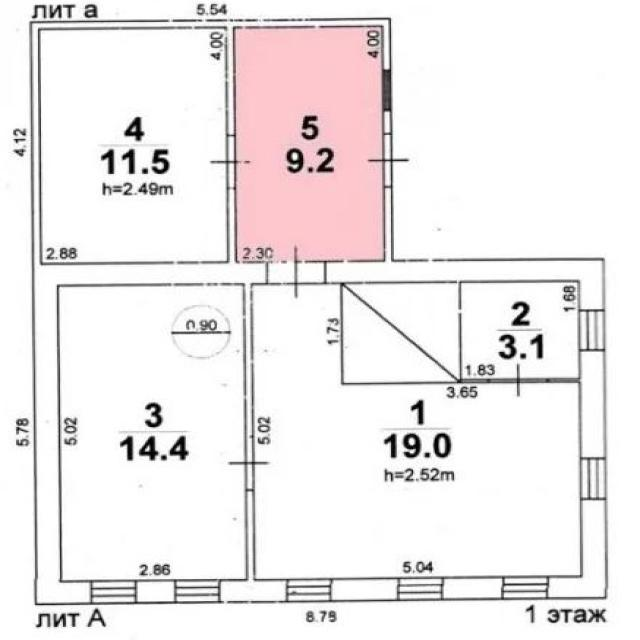Corridors: (237, 31, 383, 261)
Doors: (267, 245, 327, 301), (366, 133, 414, 187), (207, 135, 254, 190), (226, 437, 271, 490), (488, 363, 548, 400), (382, 69, 391, 111)
LBwalls: (31, 262, 268, 606), (325, 258, 608, 308), (549, 501, 608, 600), (577, 351, 607, 458), (220, 579, 287, 604), (332, 576, 398, 601), (444, 577, 503, 600), (137, 579, 176, 605)
Offices: (255, 286, 580, 577), (59, 288, 244, 579), (41, 29, 224, 260), (462, 284, 577, 376)
Walls: (29, 16, 392, 264), (244, 284, 255, 437), (245, 491, 255, 579), (226, 190, 237, 261), (383, 187, 393, 262), (382, 110, 392, 134), (548, 376, 579, 383), (461, 377, 492, 383)
Windows: (577, 309, 607, 351), (175, 578, 221, 605), (502, 575, 549, 601), (90, 580, 138, 605), (396, 577, 445, 601), (580, 457, 607, 500), (286, 578, 333, 602)
